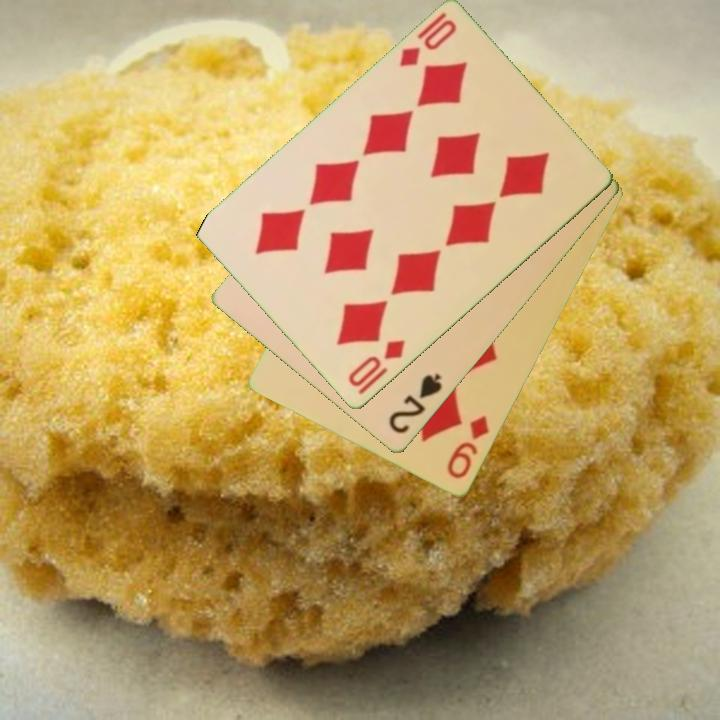10d: (395, 9, 460, 71), (345, 336, 409, 391)
2s: (385, 370, 446, 438)
9d: (443, 412, 492, 483)
